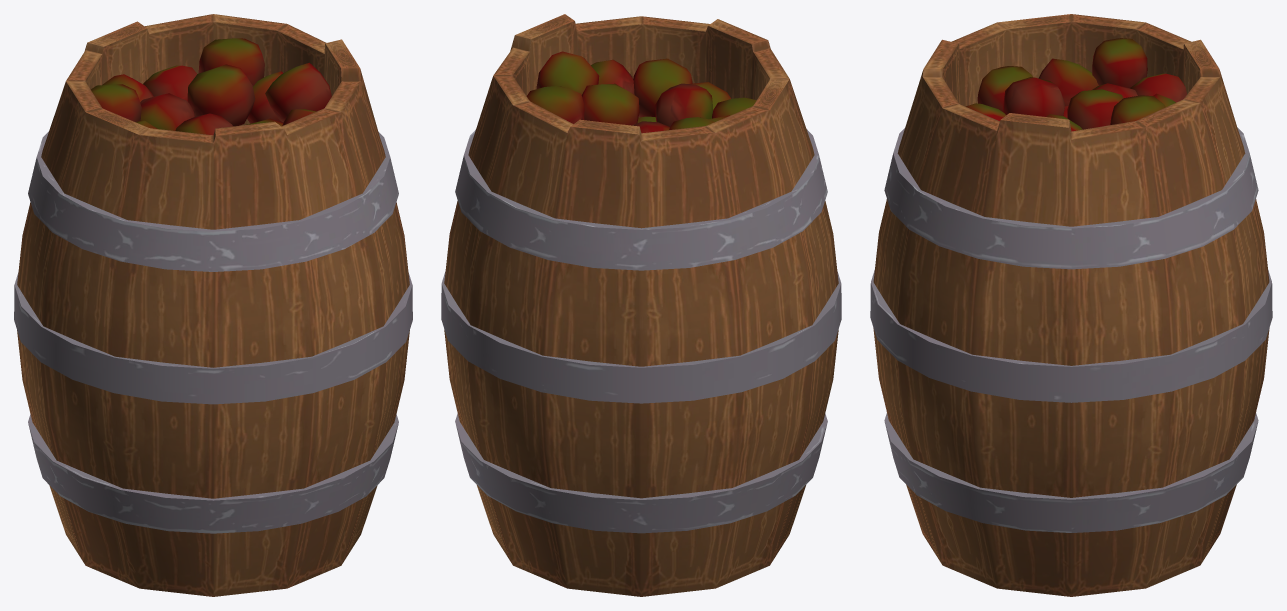
The model's file is Barrel_Apples.gltf.
3 renders of one model, left to right at view 1: azimuth 30°, elevation 25°; view 2: azimuth 150°, elevation 25°; view 3: azimuth 270°, elevation 25°, orthographic.
Visible parts, largest first — view 1: Barrel_Apples; view 2: Barrel_Apples; view 3: Barrel_Apples.
Boxes of the visible parts, x1,y1,x2,y2 form: Barrel_Apples: (14,14,412,596); Barrel_Apples: (441,14,841,596); Barrel_Apples: (870,14,1272,596).
Bounding box in the file's own units: 0.698 × 0.898 × 0.698.
Materials: 3 (3 with a texture image).
